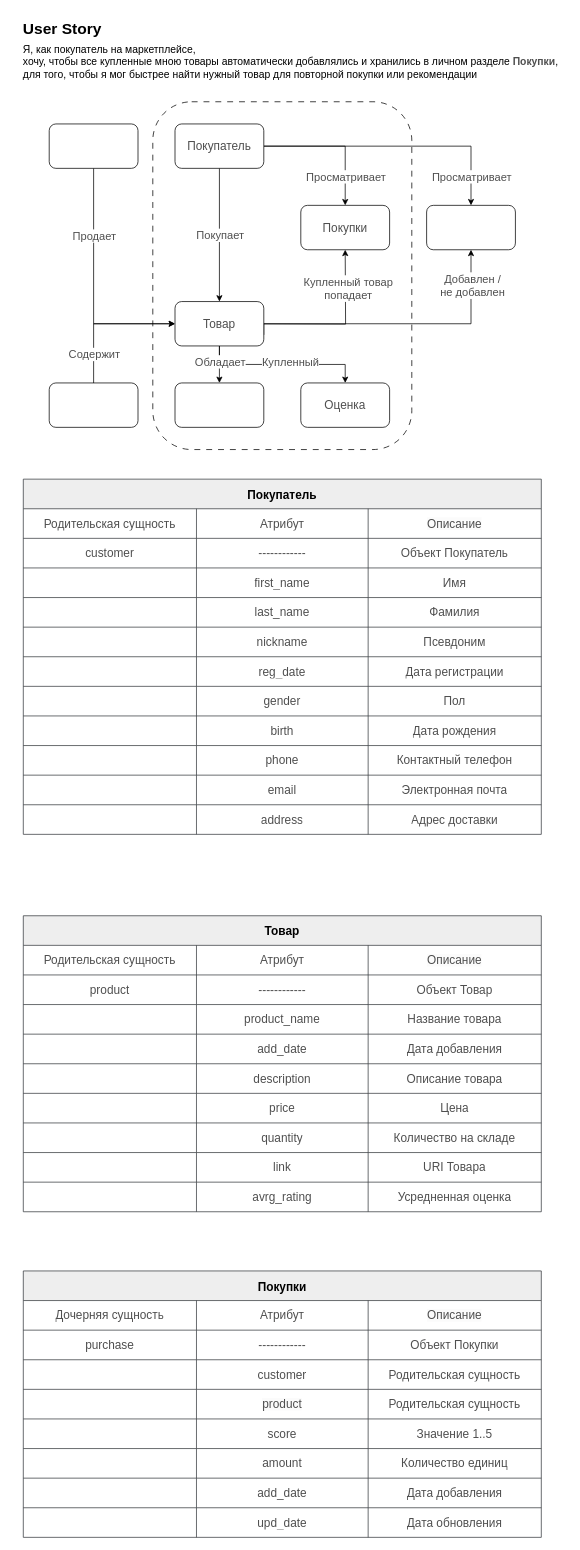
This 580x1550 diagram has some shape labels left out. Here are the shapes that lost their labels. From the top down, the centre of each, then its label:
At point 93,145: "Продавец".
At point 470,227: "Избранное".
At point 93,404: "Склад".
At point 219,404: "Ссылка".
